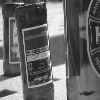beer: (11, 4, 58, 100)
